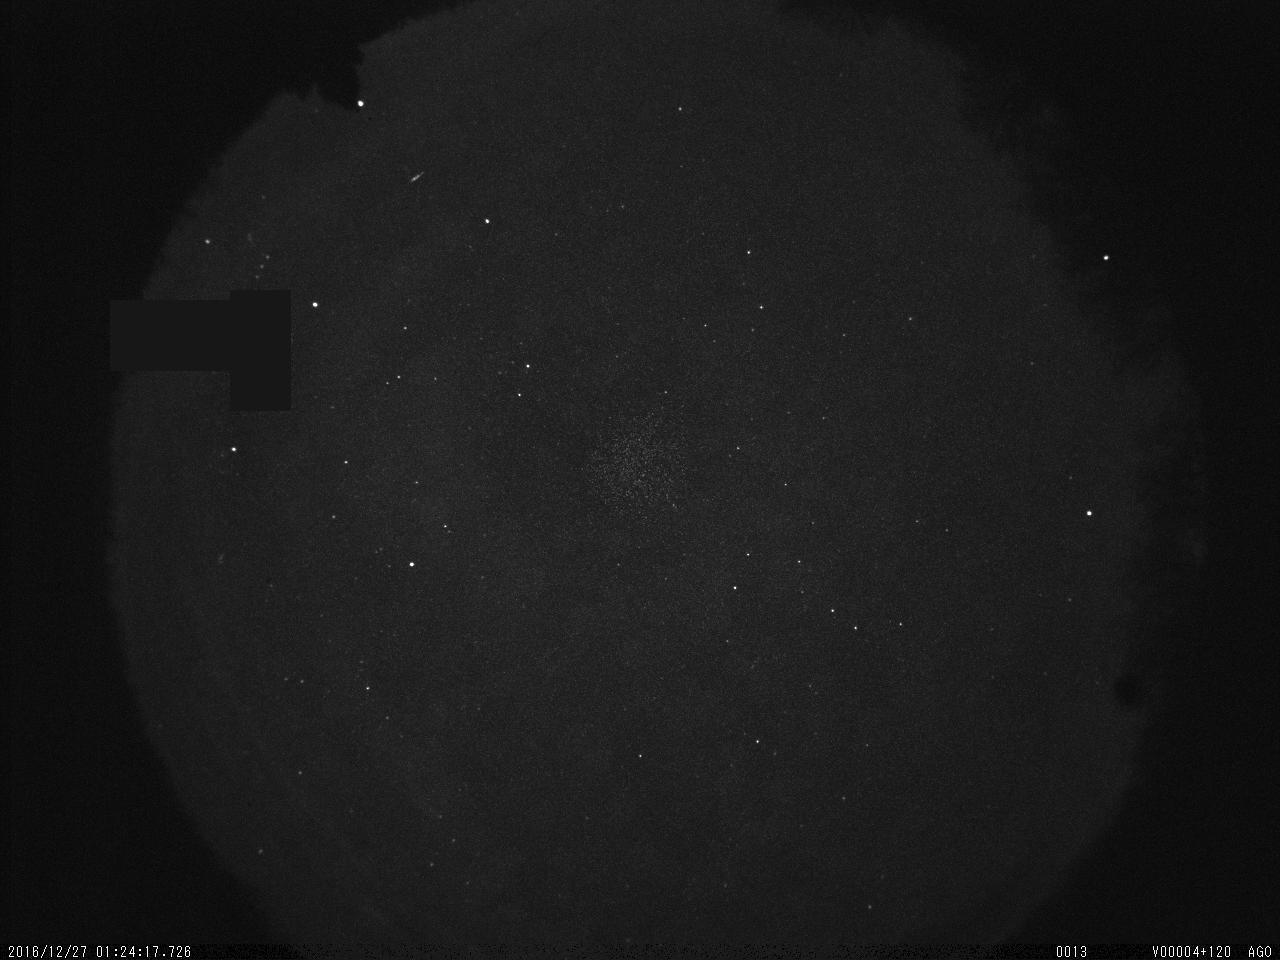meteor: (405, 165, 432, 190)
